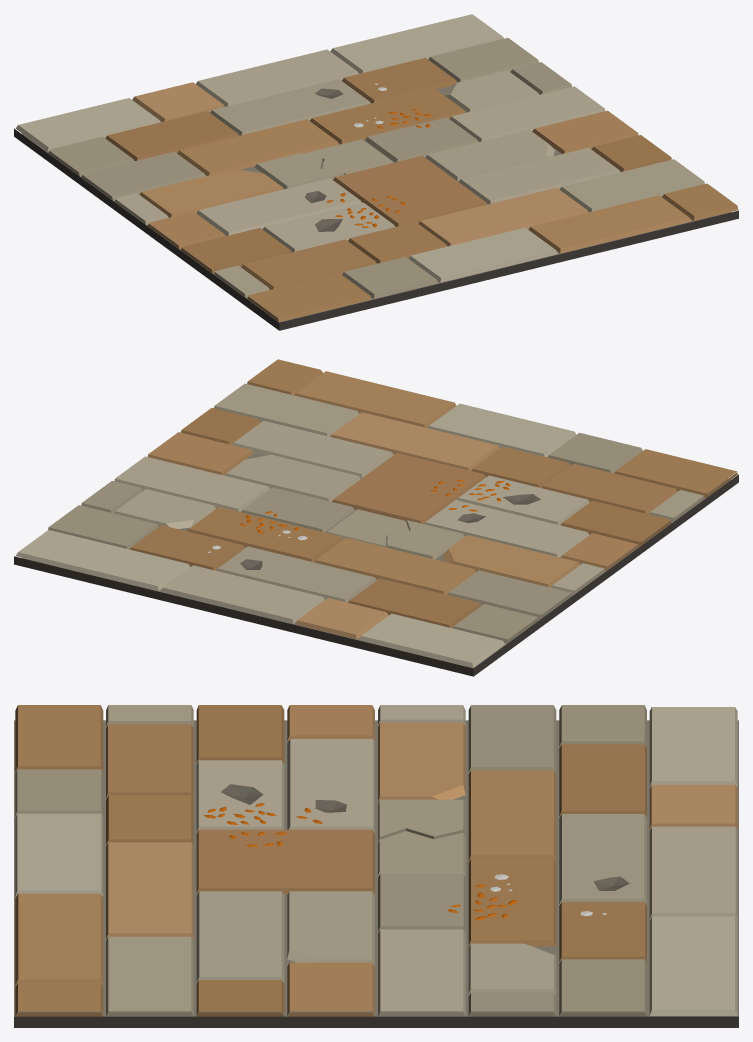
The model's file is plaza-flagstone-tile-60599f.glb.
3 views of the same model, one above another, from view 1: azimuth 30°, elevation 25°; view 2: azimuth 150°, elevation 25°; view 3: azimuth 270°, elevation 25° (orthographic). The views are drawn at different scales.
Visible parts, largest first — view 1: plaza-flags, cracked-flag; view 2: plaza-flags, cracked-flag; view 3: plaza-flags, cracked-flag.
Boxes of the visible parts, <box> form: plaza-flags: <box>14,14,738,330</box>; cracked-flag: <box>254,139,393,189</box>; plaza-flags: <box>14,359,738,676</box>; cracked-flag: <box>326,509,464,559</box>; plaza-flags: <box>14,705,738,1027</box>; cracked-flag: <box>378,799,465,876</box>.
Bounding box in the file's own units: 2 × 0.0535 × 2.
